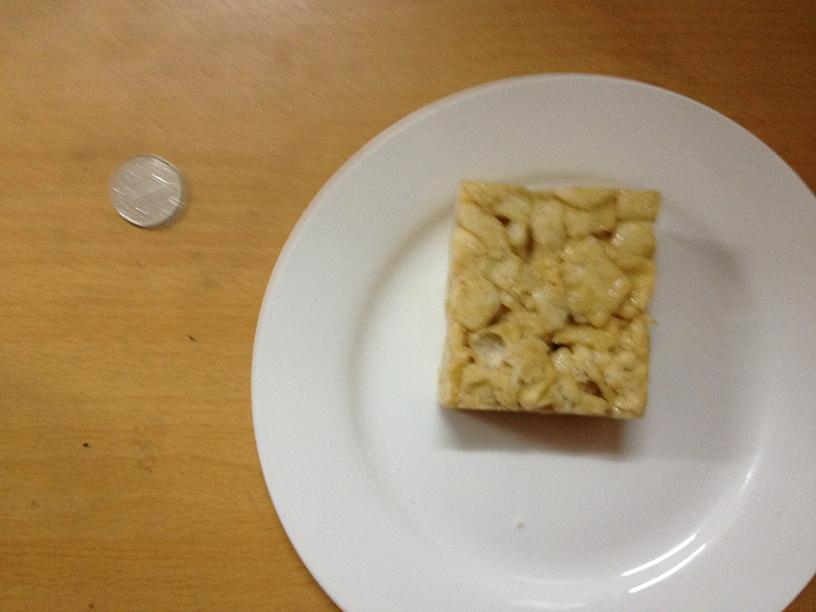coin: (104, 153, 185, 226)
sachima: (436, 178, 656, 418)
